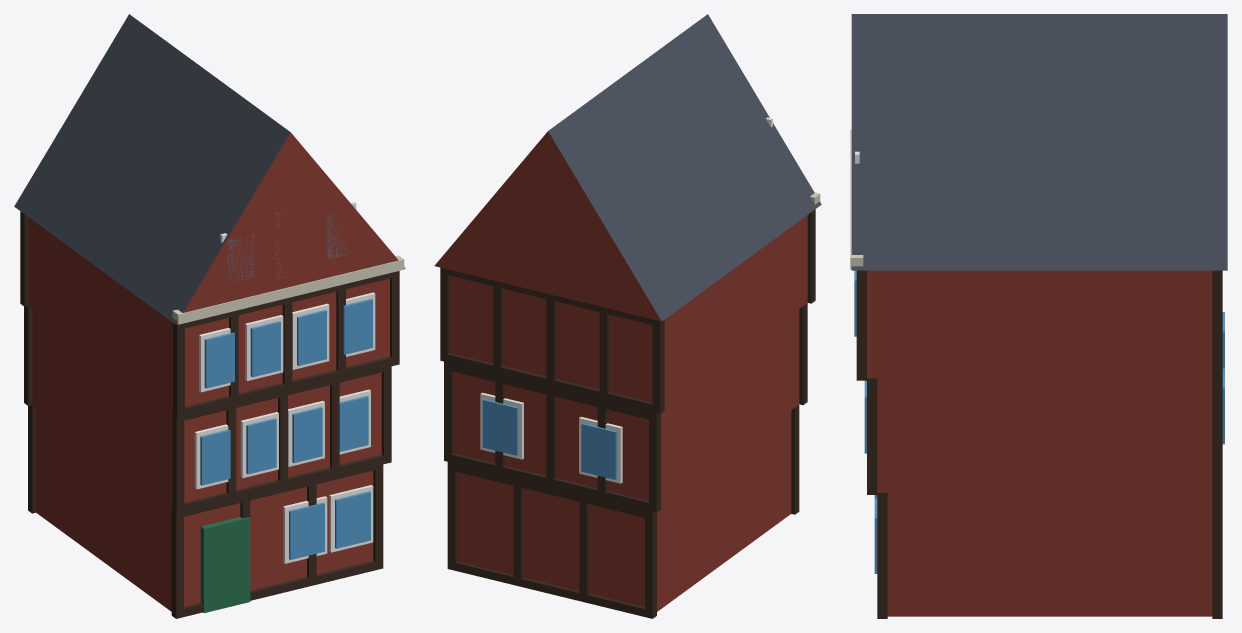
File: 11_stade_brick_2.obj
3 renders of one model, left to right at view 1: azimuth 30°, elevation 25°; view 2: azimuth 150°, elevation 25°; view 3: azimuth 270°, elevation 25°, orthographic. The views are drawn at different scales.
Visible parts, largest first — view 1: 11_stade_brick_2; view 2: 11_stade_brick_2; view 3: 11_stade_brick_2.
Boxes of the visible parts, bbox=[...] form: 11_stade_brick_2: bbox=[14, 14, 405, 618]; 11_stade_brick_2: bbox=[434, 14, 821, 618]; 11_stade_brick_2: bbox=[850, 14, 1227, 618].
Bounding box in the file's own units: 1.2 × 2.34 × 1.46.
